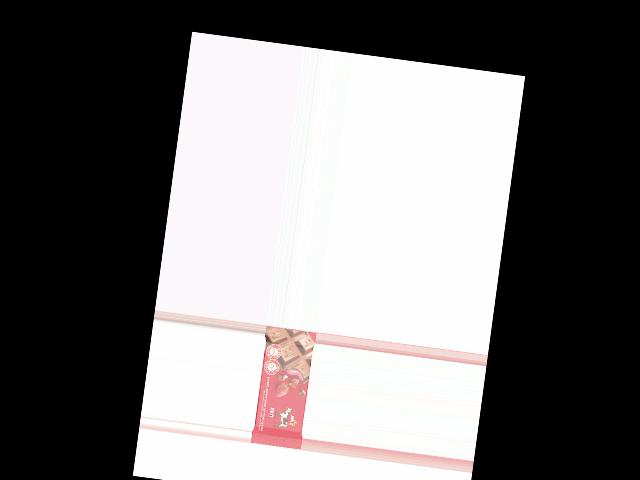chocolate: (250, 326, 315, 450)
